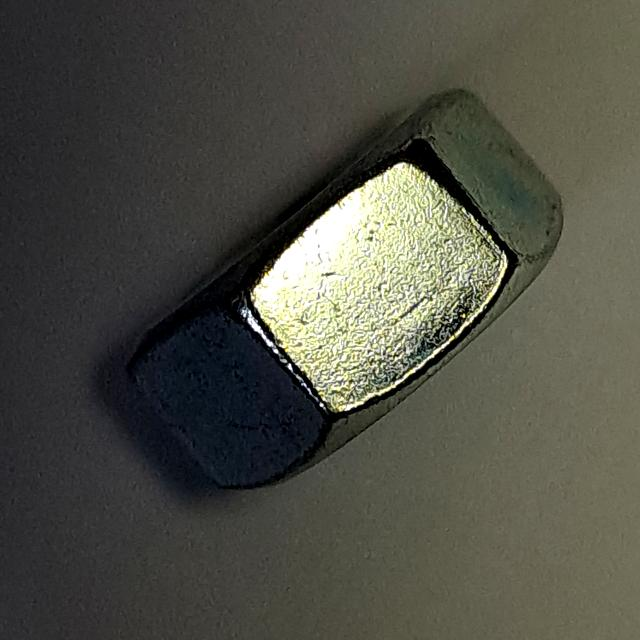Side_Excellent: (111, 79, 577, 506)
